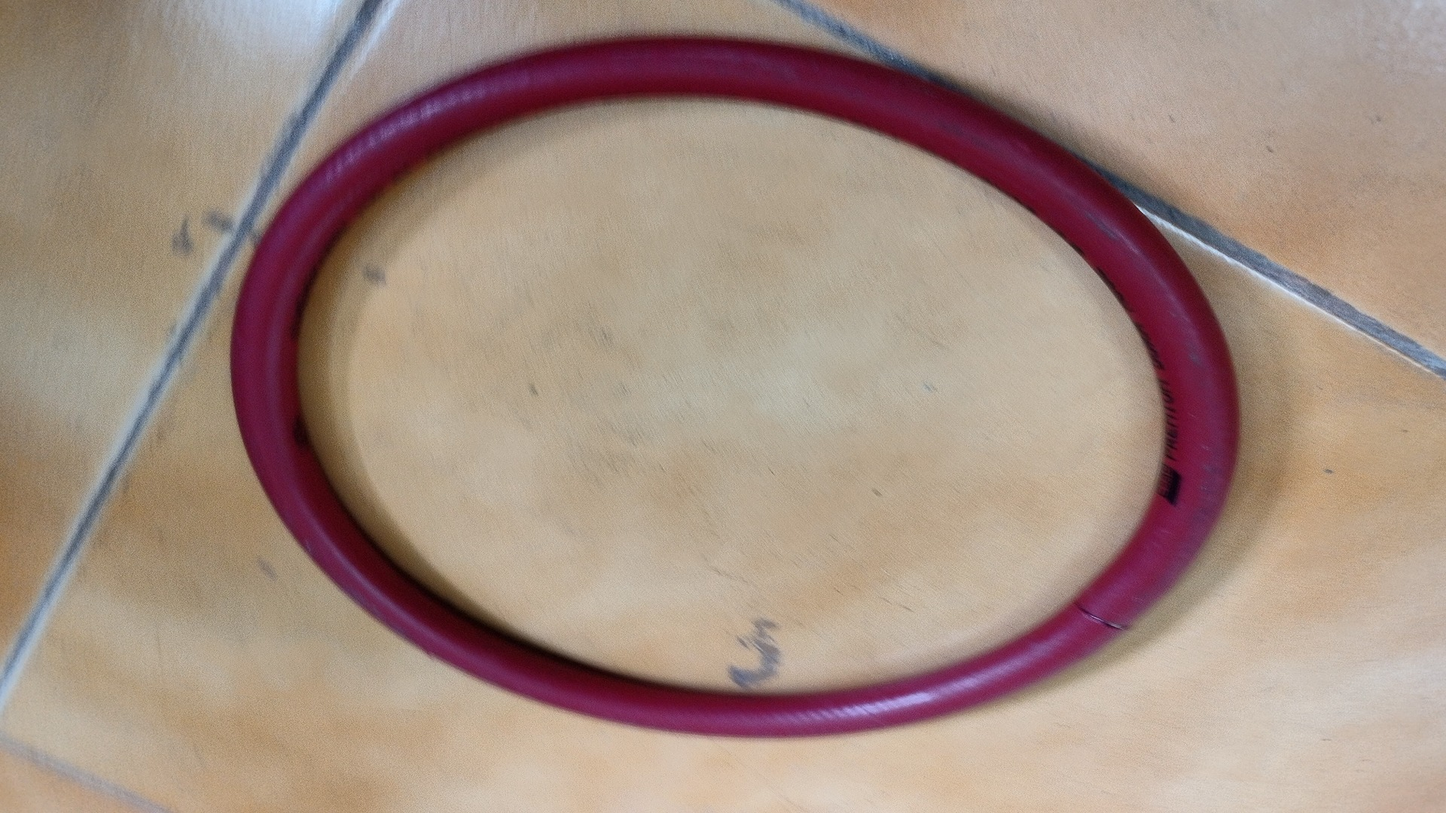Red ring: (228, 36, 1243, 741)
